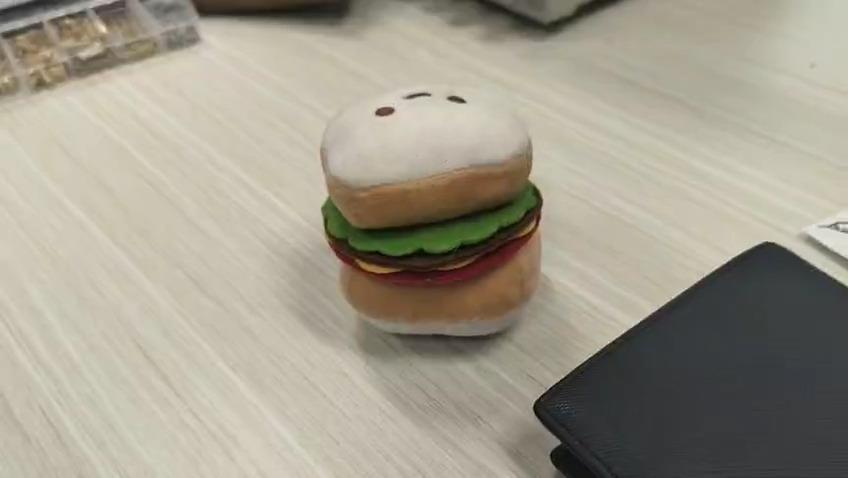objects: (319, 80, 542, 335)
